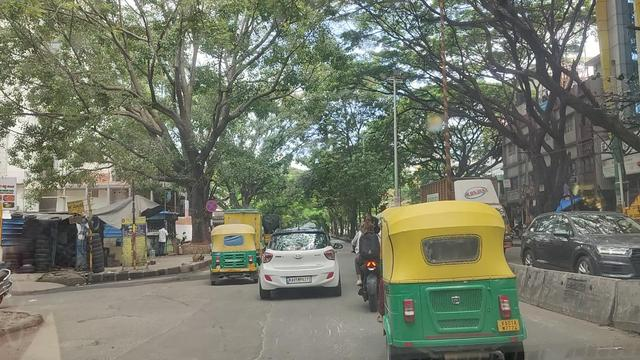LMV: (382, 202, 523, 358), (262, 226, 338, 290), (210, 225, 258, 282), (354, 212, 378, 304)
RoadDamages: (145, 294, 219, 338), (77, 303, 143, 327), (250, 300, 276, 360), (54, 335, 102, 352), (113, 341, 151, 357)
